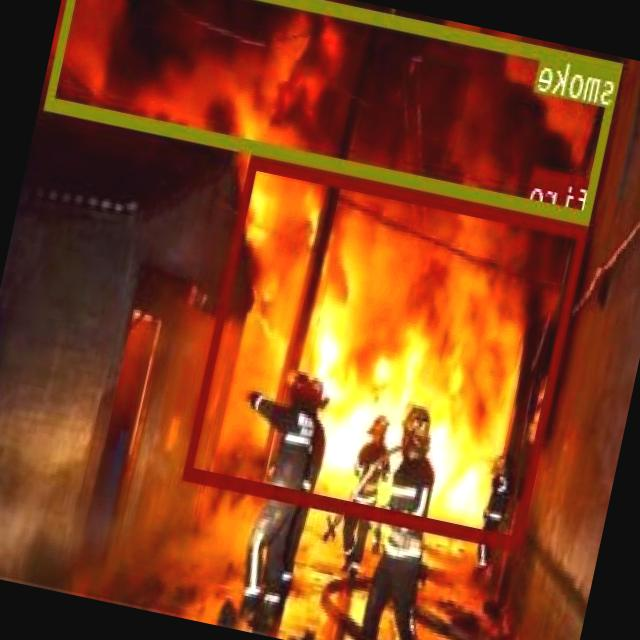fire: (185, 154, 590, 548)
smoke: (46, 0, 625, 222)
